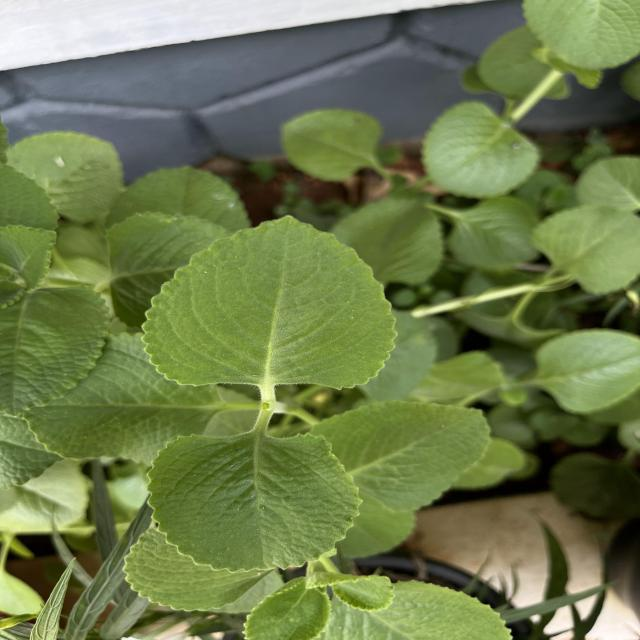Plectranthus barbatus: (141, 212, 398, 392), (145, 430, 367, 576), (310, 399, 492, 514), (420, 98, 542, 200), (533, 327, 640, 415), (278, 105, 384, 183)
